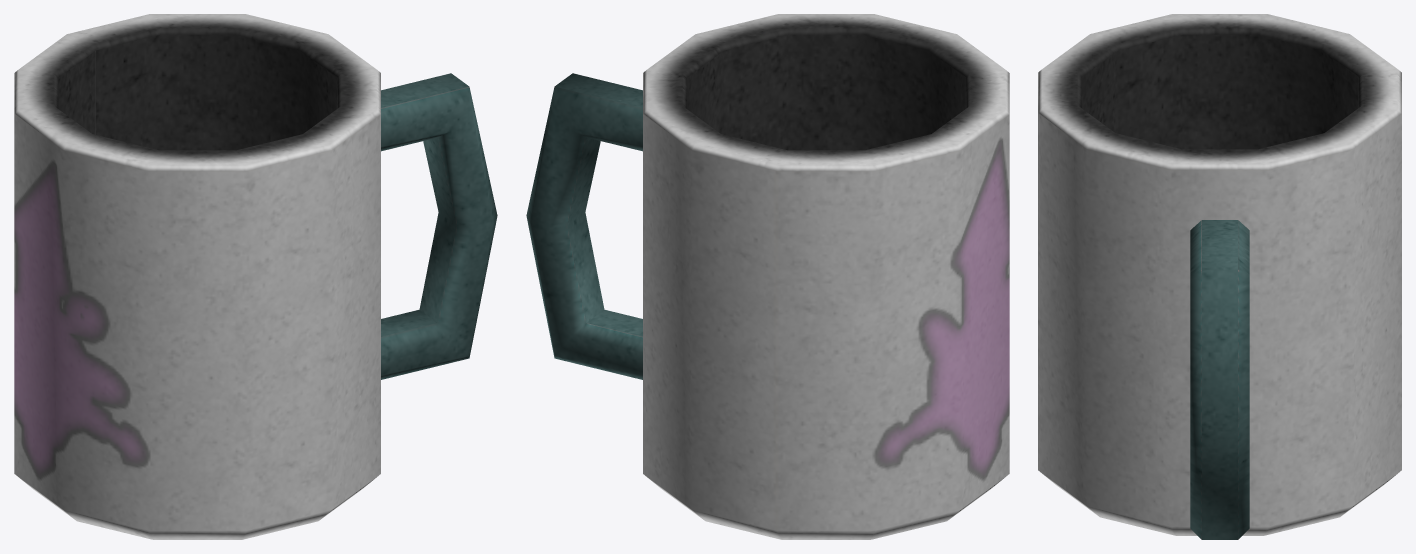
Rendered from mugMesh.fbx.
3 views of the same model, side by side, from view 1: azimuth 30°, elevation 25°; view 2: azimuth 150°, elevation 25°; view 3: azimuth 270°, elevation 25° (orthographic).
Visible parts, largest first — view 1: polySurface1; view 2: polySurface1; view 3: polySurface1.
Part boxes in pixels (box(x1,y1,x2,y2)): polySurface1: box(14, 14, 497, 539); polySurface1: box(526, 14, 1009, 539); polySurface1: box(1038, 14, 1401, 539).
Size of the model in its own units: 104 by 84 by 73.31.
